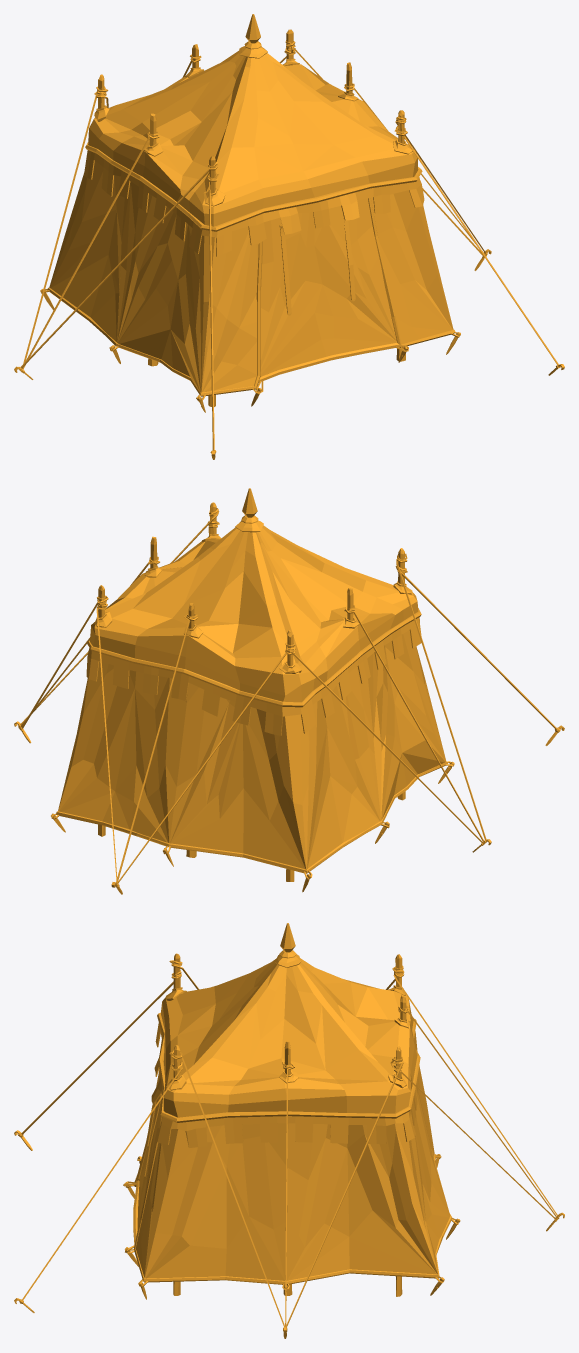
The model's file is SM_Tent_Angular_Striped_Closed_Fantasy.fbx.
3 renders of one model, top to bottom at view 1: azimuth 30°, elevation 25°; view 2: azimuth 150°, elevation 25°; view 3: azimuth 270°, elevation 25°, orthographic.
Visible parts, largest first — view 1: tent-angular-striped-closed-fantasy; view 2: tent-angular-striped-closed-fantasy; view 3: tent-angular-striped-closed-fantasy.
Part boxes in pixels (x1,y1,x2,y2): tent-angular-striped-closed-fantasy: (14, 14, 564, 459); tent-angular-striped-closed-fantasy: (14, 488, 564, 894); tent-angular-striped-closed-fantasy: (14, 923, 564, 1338).
Size of the model in its own units: 8.06 by 5.31 by 8.11.
